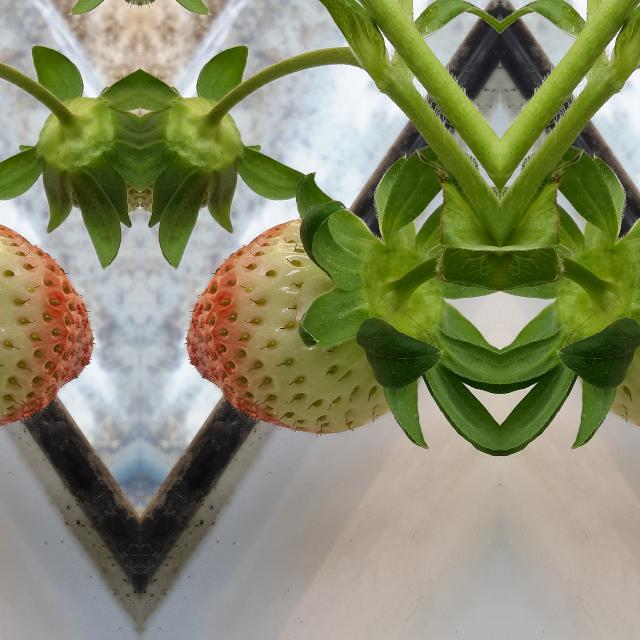Health_50: (183, 218, 391, 436), (0, 218, 97, 435)
